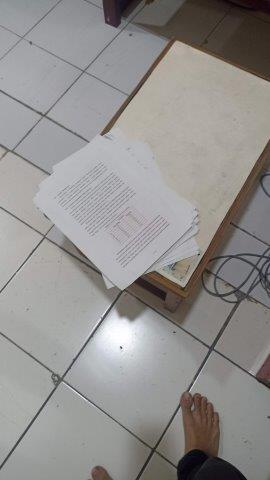kertas: (36, 131, 201, 294)
